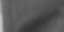LeftEyeFatigue: (14, 8, 64, 31)
